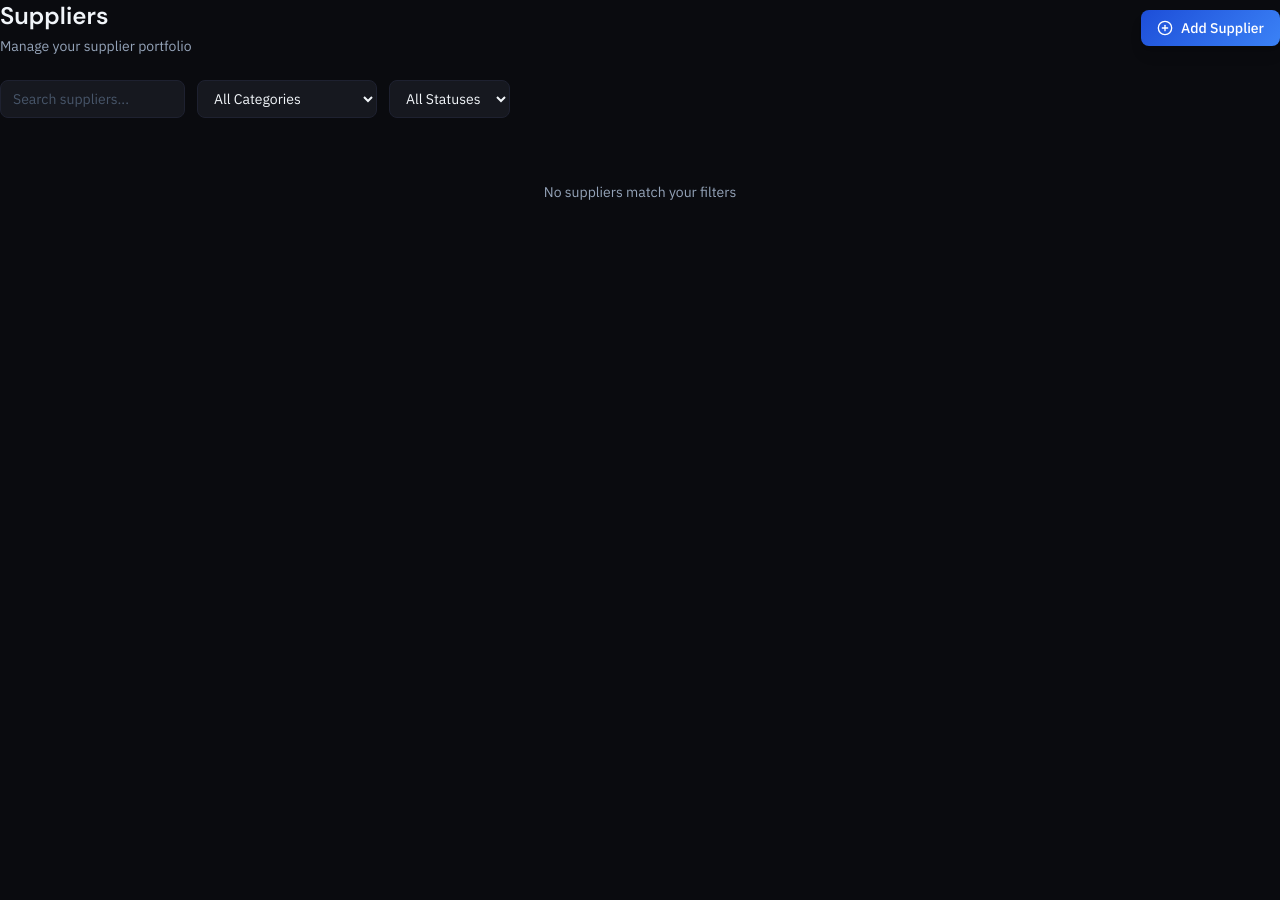
Test case: Suppliers › opens the Add Supplier modal when the Add Supplier button is clicked
The width and height of the screenshot is (1280, 900).
Click the button "Add Supplier" at (1210, 28), box [1141,10,1279,46]
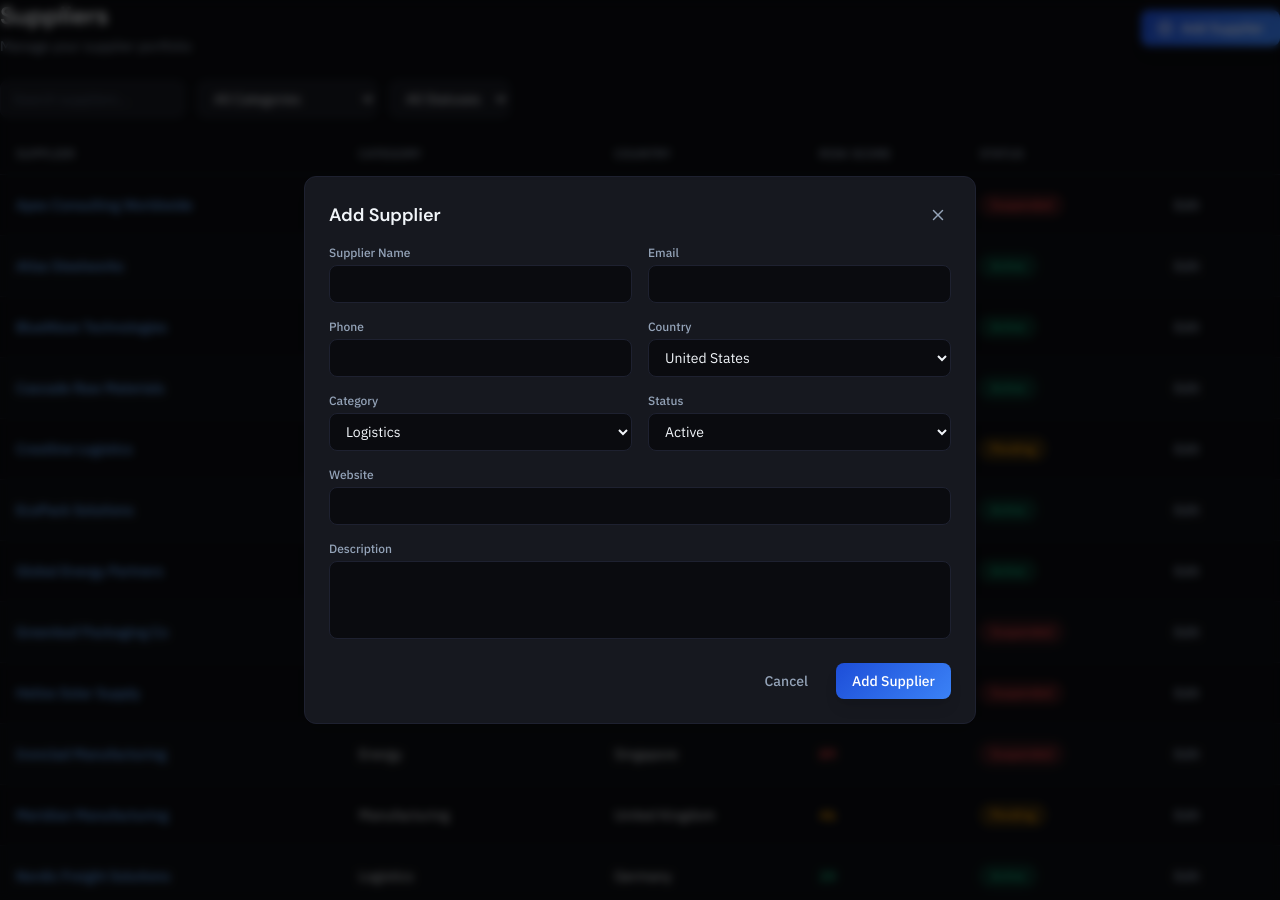
Now the heading "Add Supplier" is shown, box [329,201,441,229]
